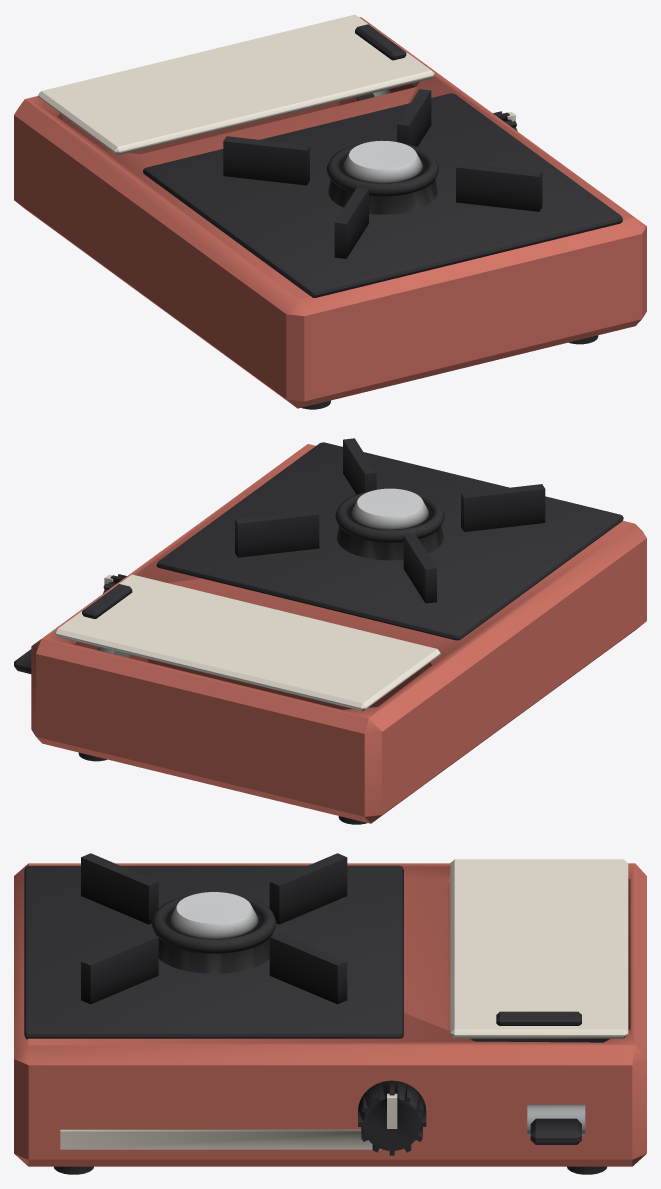
The model's file is kit_stove.glb.
3 views of the same model, one above another, from view 1: azimuth 30°, elevation 25°; view 2: azimuth 150°, elevation 25°; view 3: azimuth 270°, elevation 25° (orthographic). The views are drawn at different scales.
Visible parts, largest first — view 1: PART, COVER; view 2: PART, COVER; view 3: PART, COVER, KNOB_fire, LEVER.
Boxes of the visible parts, x1,y1,x2,y2 form: PART: (14,17,646,409); COVER: (38,14,434,155); PART: (31,438,646,824); COVER: (54,574,440,711); PART: (14,853,646,1174); COVER: (450,859,628,1038); KNOB_fire: (358,1080,426,1155); LEVER: (527,1104,585,1144).
Bounding box in the file's own units: 0.302 × 0.12 × 0.37.
